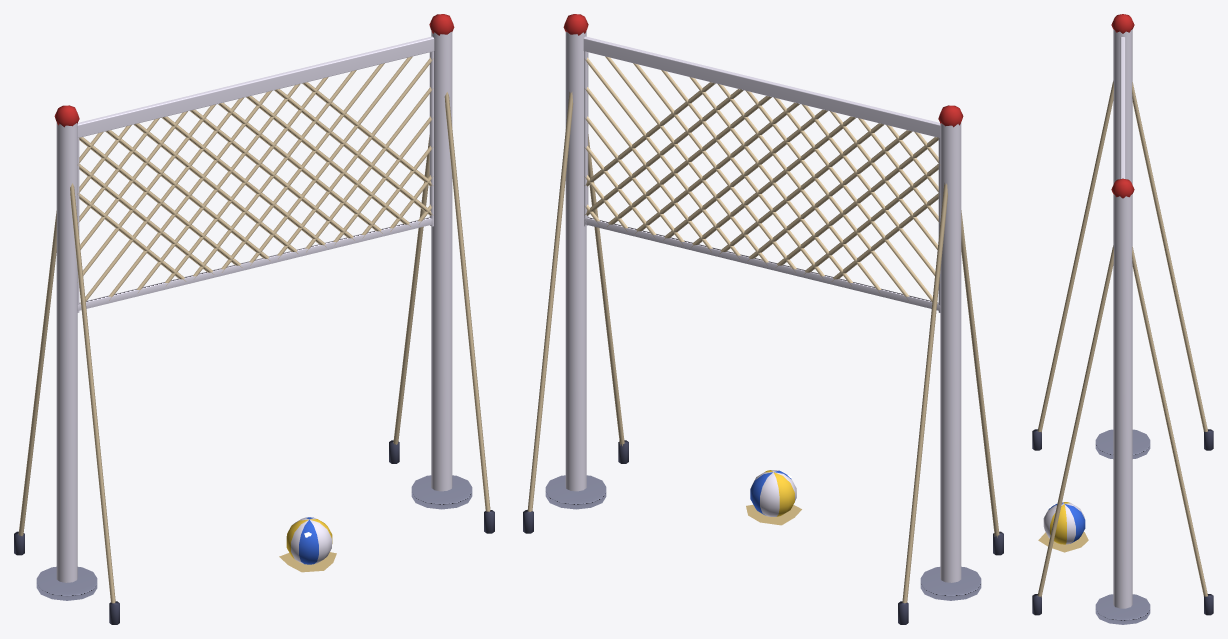
The model's file is volleyball_net.glb.
3 views of the same model, side by side, from view 1: azimuth 30°, elevation 25°; view 2: azimuth 150°, elevation 25°; view 3: azimuth 270°, elevation 25° (orthographic). The views are drawn at different scales.
Visible parts, largest first — view 1: Net; view 2: Net; view 3: Net.
Boxes of the visible parts, bbox=[...] form: Net: bbox=[14, 14, 494, 624]; Net: bbox=[523, 14, 1003, 624]; Net: bbox=[1032, 14, 1213, 624].
Size of the model in its own units: 2.28 by 2.47 by 0.93.
